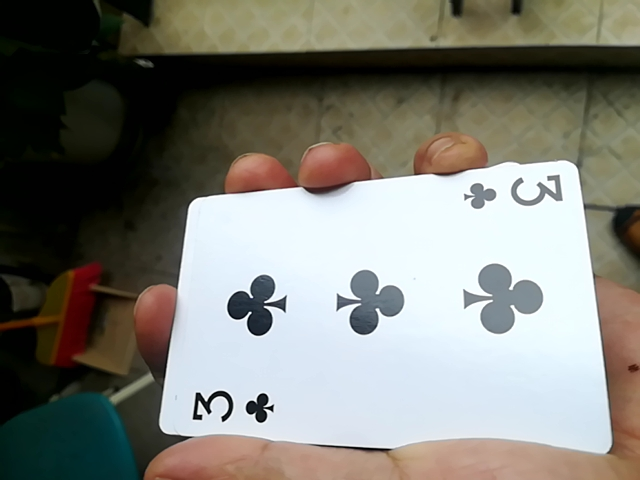mh 3: (132, 165, 618, 458)
